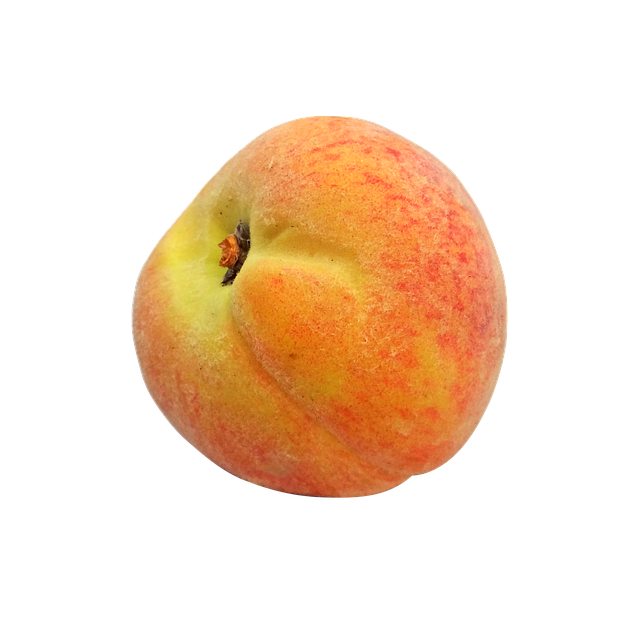peach: (131, 115, 515, 498)
